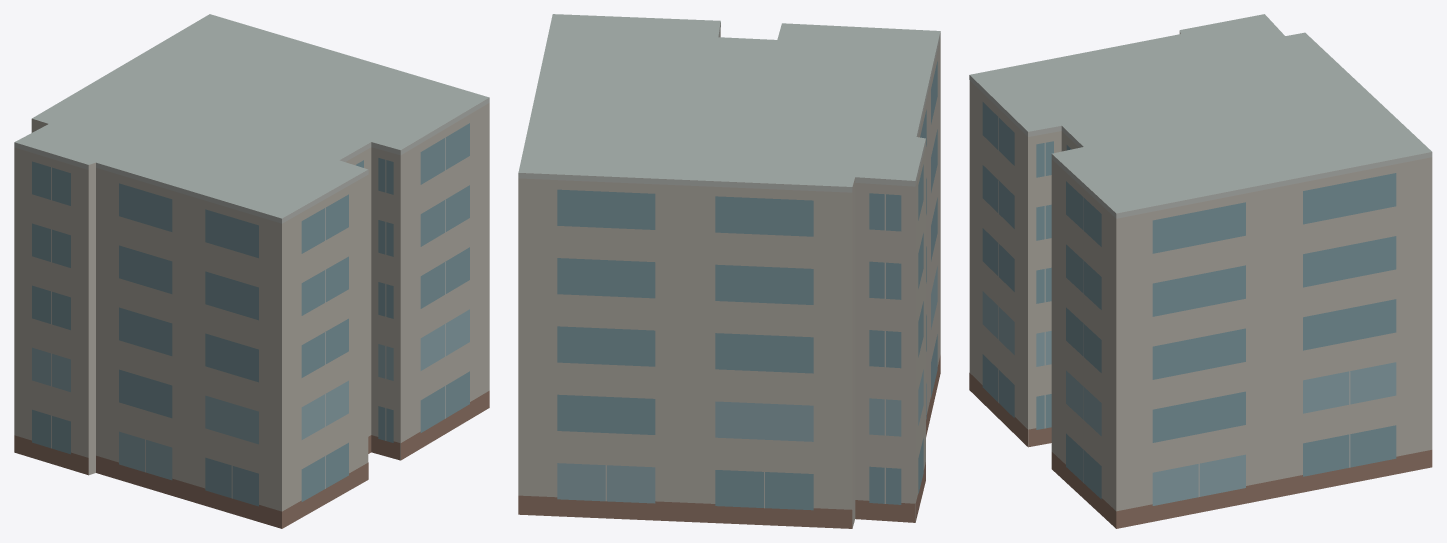
Rendered from survey-upis-32780507.glb.
3 views of the same model, side by side, from view 1: azimuth 30°, elevation 25°; view 2: azimuth 150°, elevation 25°; view 3: azimuth 270°, elevation 25° (orthographic). The views are drawn at different scales.
Visible parts, largest first — view 1: survey-upis-32780507.tmp; view 2: survey-upis-32780507.tmp; view 3: survey-upis-32780507.tmp.
Boxes of the visible parts, bbox=[...] form: survey-upis-32780507.tmp: bbox=[14, 14, 489, 528]; survey-upis-32780507.tmp: bbox=[518, 14, 940, 528]; survey-upis-32780507.tmp: bbox=[969, 14, 1432, 528].
Bounding box in the file's own units: 20.02 × 14.75 × 19.63.
